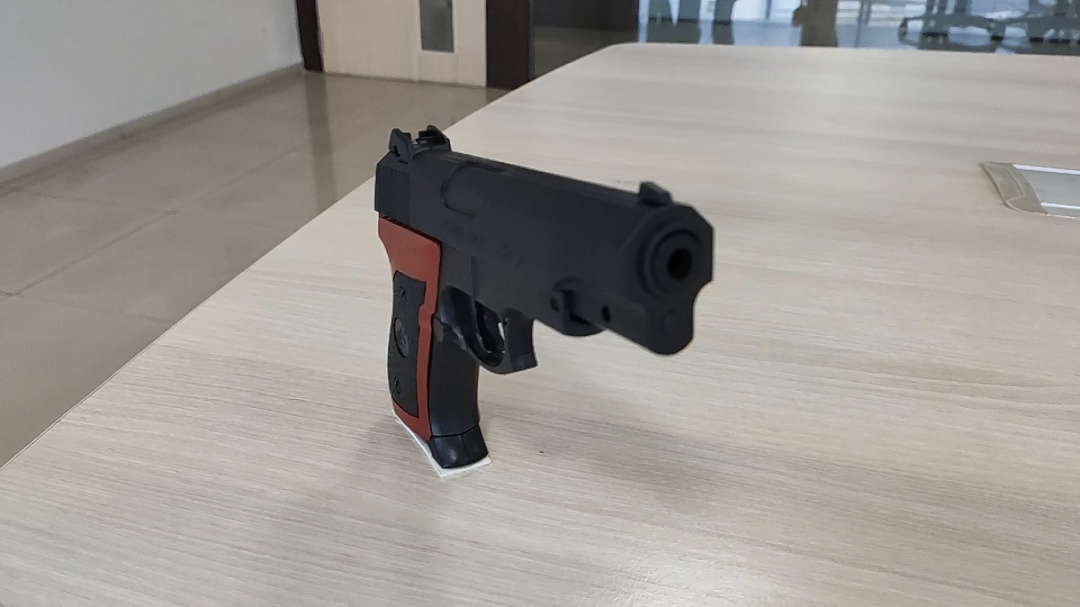gun: (372, 122, 719, 473)
